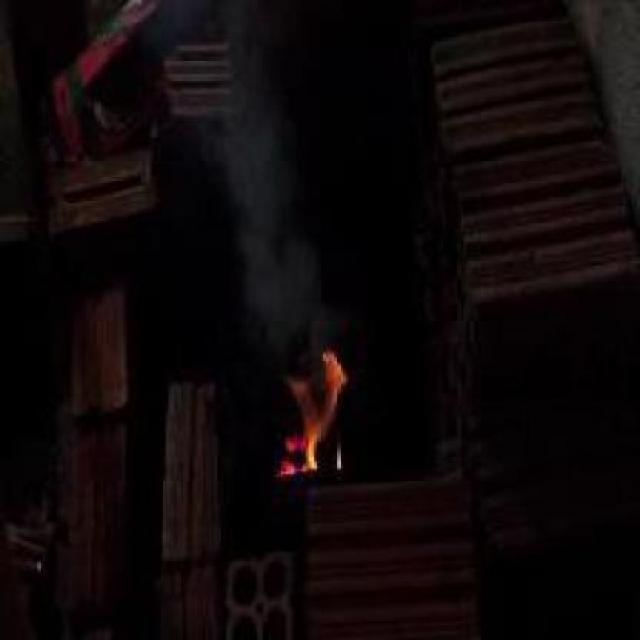Fire: (274, 346, 348, 480)
